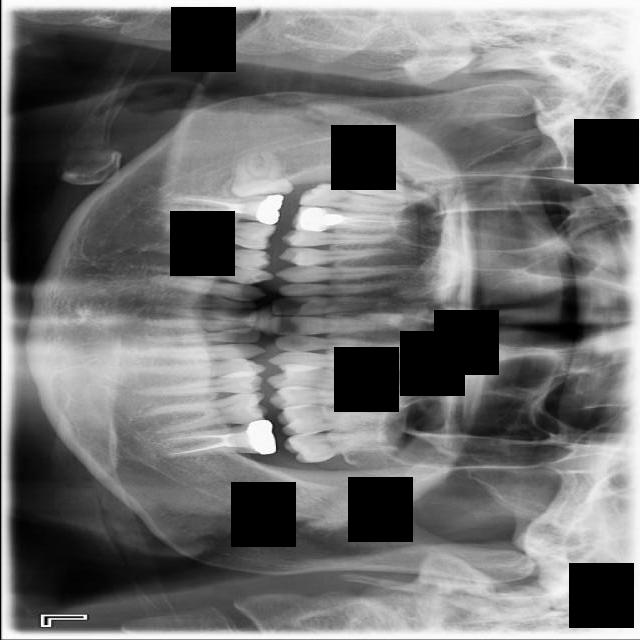3M ESPE Implant: (341, 167, 434, 208)
52: (235, 417, 280, 458), (241, 188, 285, 228), (290, 205, 335, 233)
73: (156, 424, 245, 466), (162, 194, 250, 220), (328, 209, 411, 234), (91, 586, 95, 590)
BioHorizons Implant: (282, 430, 395, 463)
Blue Sky Bio Implant: (158, 420, 278, 459)
Caries: (297, 178, 413, 220)
Implant: (165, 194, 283, 225)
Keystone Dental Implant: (228, 148, 293, 200)
